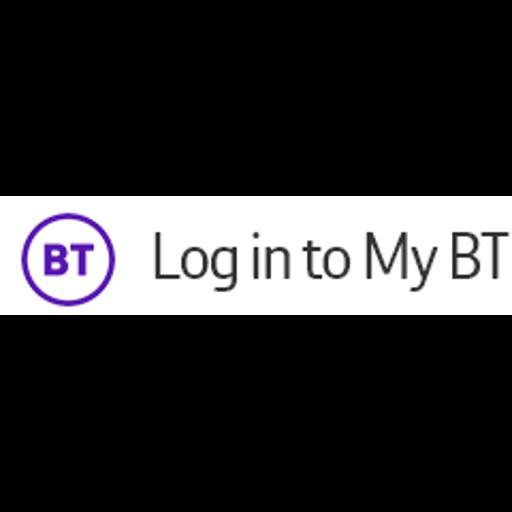BT Group plc: (0, 196, 512, 315)
